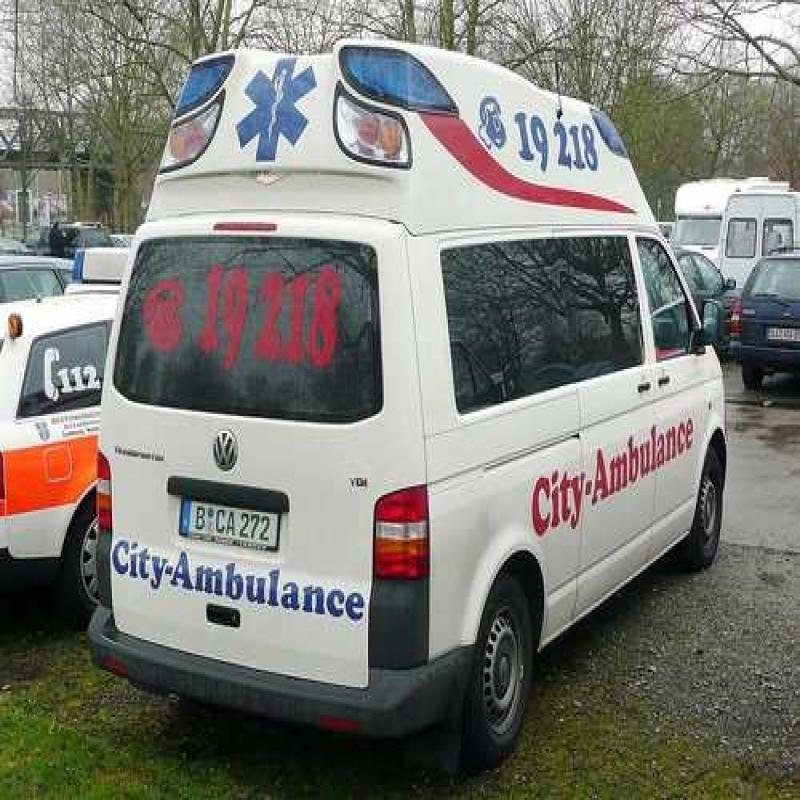AmbulanceSiren: (150, 27, 472, 204)
